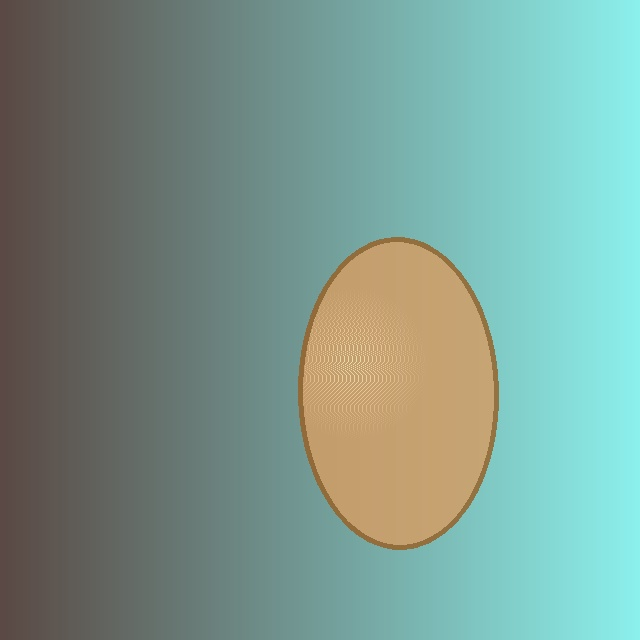lens: (300, 239, 496, 547)
